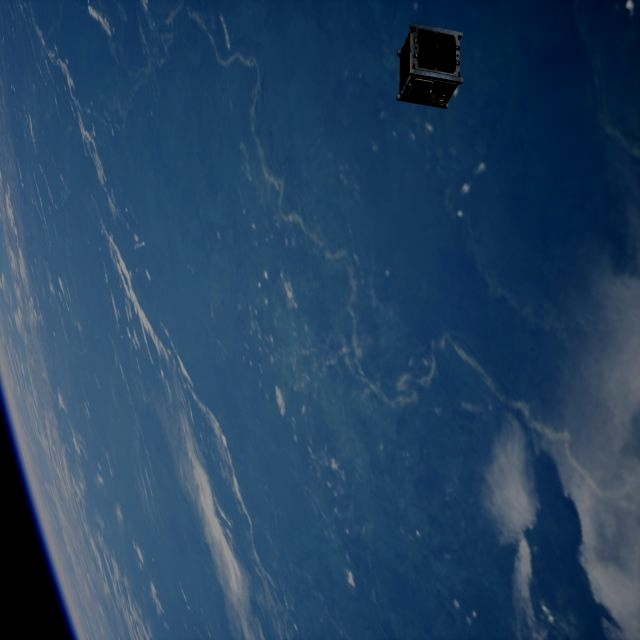medium_debris: (396, 20, 468, 111)
